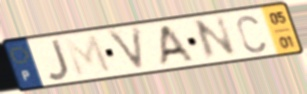A: (157, 23, 197, 69)
C: (235, 14, 268, 55)
J: (45, 37, 72, 82)
M: (61, 32, 115, 79)
N: (191, 14, 240, 63)
V: (104, 24, 148, 75)
